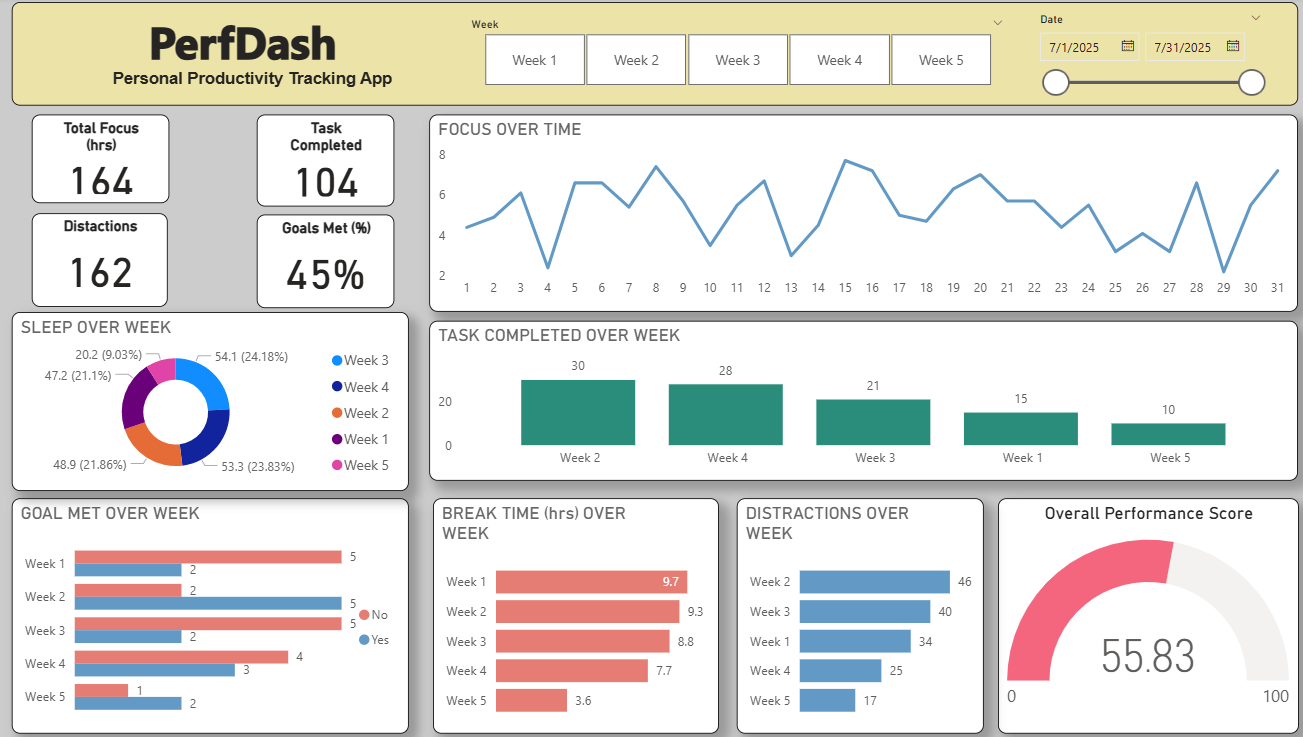

Layout of this report page (visuals, bound fields, positions):
{"tool":"powerbi","page":{"name":"Page 1","canvas":[1280,720],"ordinal":0},"visuals":[{"type":"clusteredBarChart","title":"GOAL MET OVER WEEK","fields":{"Category":["Sheet1.Week"],"Y":["CountNonNull(Sheet1.GoalMetBinary)"],"Series":["Sheet1.Goal Met"]},"box":[18.6,484.3,382.9,227.1],"z":0},{"type":"donutChart","title":"SLEEP OVER WEEK","fields":{"Category":["Sheet1.Week"],"Y":["Sum(Sheet1.Sleep Hours)"]},"box":[18.6,304.3,382.9,172.9],"z":1000},{"type":"card","title":"Total Focus (hrs)","fields":{"Values":["Sum(Sheet1.Focus Hours)"]},"box":[37.1,112.9,132.9,85.7],"z":2000},{"type":"textbox","box":[18.6,4.3,1241.4,100],"z":3000},{"type":"slicer","fields":{"Values":["Sheet1.Week"]},"box":[448.6,14.3,538.6,77.1],"z":4000},{"type":"slicer","fields":{"Values":["Sheet1.Date"]},"box":[997.1,10,238.6,92.9],"z":5000},{"type":"lineChart","title":"FOCUS OVER TIME","fields":{"Y":["Sum(Sheet1.Focus Hours)"],"Category":["Sheet1.Date.Variation.Date Hierarchy.Day"]},"box":[421.4,112.9,838.6,190],"z":6000},{"type":"columnChart","title":"TASK COMPLETED OVER WEEK","fields":{"Category":["Sheet1.Week"],"Y":["Sum(Sheet1.Tasks Completed)"]},"box":[421.4,312.9,838.6,154.3],"z":7000},{"type":"gauge","fields":{"Y":["Sheet1.Overall Performance Score"]},"box":[970,484.3,290,227.1],"z":8000},{"type":"barChart","title":"BREAK TIME (hrs) OVER WEEK","fields":{"Category":["Sheet1.Week"],"Y":["Sum(Sheet1.Break Time (hrs))"]},"box":[424.3,484.2,276.4,227.4],"z":9000},{"type":"barChart","title":"DISTRACTIONS OVER WEEK","fields":{"Category":["Sheet1.Week"],"Y":["Sum(Sheet1.Distractions)"]},"box":[717.8,484.2,238.5,227.4],"z":10000},{"type":"card","title":"Task Completed","fields":{"Values":["Sum(Sheet1.Tasks Completed)"]},"box":[254.3,112.9,132.9,88.6],"z":11000},{"type":"card","title":"Distactions","fields":{"Values":["Sum(Sheet1.Distractions)"]},"box":[37.1,208.6,131.4,90],"z":12000},{"type":"card","title":"Goals Met (%)","fields":{"Values":["Sheet1.Goals Met %"]},"box":[254.3,210,132.9,90],"z":13000},{"type":"textbox","box":[37.1,8.6,407.1,88.6],"z":14000}]}

Visuals, with their boxes in screenshot pixels (x1, y1, x2, y2), scaled from the page's 1280x720 canvas onto the 1303x737 screenshot:
"GOAL MET OVER WEEK" clusteredBarChart: pyautogui.locateOnScreen(19, 496, 409, 728)
"SLEEP OVER WEEK" donutChart: pyautogui.locateOnScreen(19, 311, 409, 488)
"Total Focus (hrs)" card: pyautogui.locateOnScreen(38, 116, 173, 203)
textbox: pyautogui.locateOnScreen(19, 4, 1283, 107)
slicer - Sheet1.Week: pyautogui.locateOnScreen(457, 15, 1005, 94)
slicer - Sheet1.Date: pyautogui.locateOnScreen(1015, 10, 1258, 105)
"FOCUS OVER TIME" lineChart: pyautogui.locateOnScreen(429, 116, 1283, 310)
"TASK COMPLETED OVER WEEK" columnChart: pyautogui.locateOnScreen(429, 320, 1283, 478)
gauge - Sheet1.Overall Performance Score: pyautogui.locateOnScreen(987, 496, 1283, 728)
"BREAK TIME (hrs) OVER WEEK" barChart: pyautogui.locateOnScreen(432, 496, 713, 728)
"DISTRACTIONS OVER WEEK" barChart: pyautogui.locateOnScreen(731, 496, 973, 728)
"Task Completed" card: pyautogui.locateOnScreen(259, 116, 394, 206)
"Distactions" card: pyautogui.locateOnScreen(38, 214, 172, 306)
"Goals Met (%)" card: pyautogui.locateOnScreen(259, 215, 394, 307)
textbox: pyautogui.locateOnScreen(38, 9, 452, 99)
